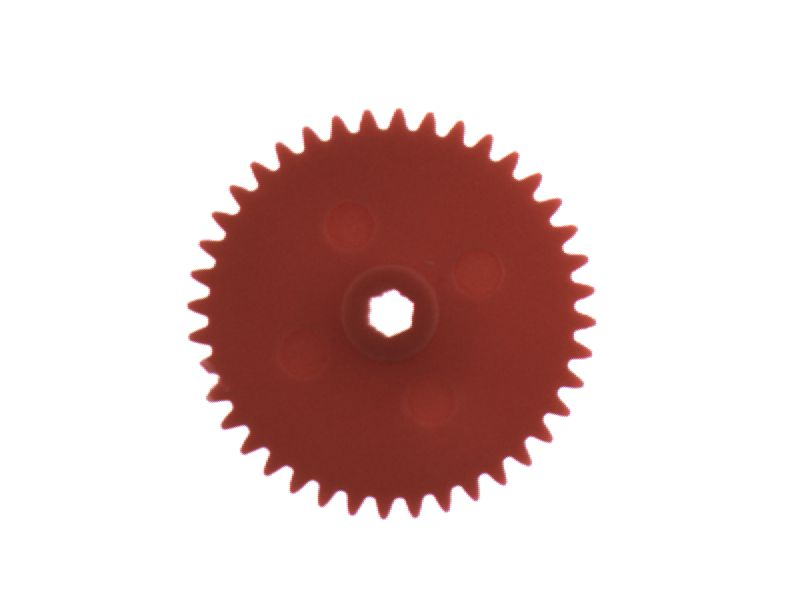defect_break: (178, 346, 228, 385)
